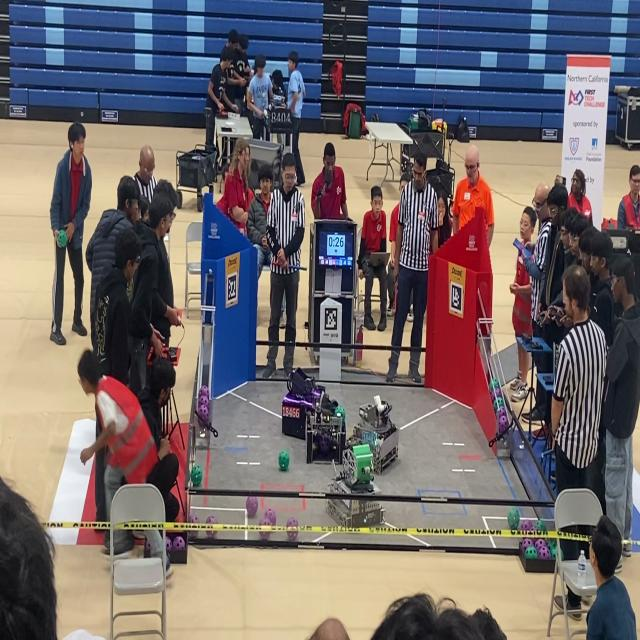artifact_green: (497, 408, 509, 434), (191, 465, 202, 487), (508, 508, 519, 530), (279, 451, 289, 471), (57, 230, 68, 248), (521, 519, 533, 534), (538, 545, 550, 560), (335, 406, 345, 423), (550, 546, 563, 559), (525, 546, 537, 559), (534, 539, 546, 552), (489, 378, 500, 391), (494, 398, 504, 412), (521, 539, 533, 550), (536, 520, 547, 532), (492, 401, 499, 418), (556, 547, 564, 560), (548, 539, 557, 549), (496, 396, 504, 407), (259, 531, 270, 539), (491, 389, 498, 401), (494, 387, 502, 397), (550, 546, 556, 559)
artifact_purple: (246, 496, 258, 517), (498, 413, 509, 435), (319, 434, 330, 455), (197, 404, 209, 423), (265, 508, 276, 525), (173, 536, 185, 551), (538, 545, 550, 559), (499, 407, 509, 421), (521, 539, 533, 550), (198, 398, 209, 410), (521, 520, 533, 531), (198, 416, 208, 429), (538, 541, 548, 554), (199, 386, 209, 399), (198, 397, 209, 407), (287, 517, 298, 527), (534, 539, 545, 549), (198, 397, 209, 406), (189, 514, 199, 523), (259, 531, 270, 539), (206, 515, 217, 523), (166, 537, 172, 551), (491, 389, 497, 402), (145, 540, 151, 552), (331, 438, 337, 450), (495, 387, 502, 397)
